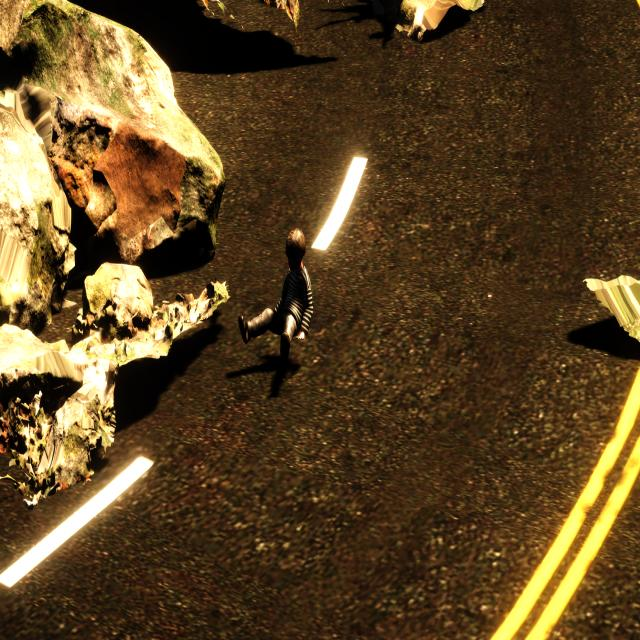Human: (236, 224, 316, 365)
